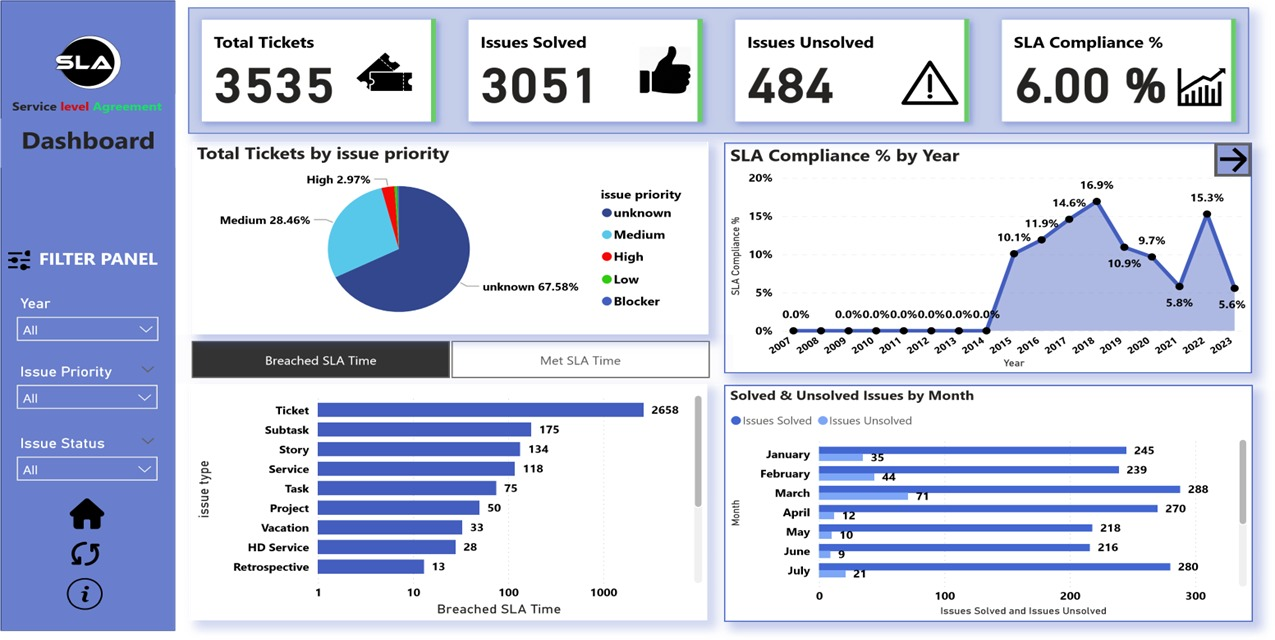

What the dashboard file says about the page in this screenshot:
{"tool":"powerbi","page":{"name":"Dashboard","canvas":[1280,720],"ordinal":0},"visuals":[{"type":"shape","box":[0,0,177.1,720],"z":0},{"type":"slicer","fields":{"Values":["Sheet1.Month.Variation.Date Hierarchy.Year"]},"box":[6.9,330.7,163.3,81],"z":1000},{"type":"slicer","fields":{"Values":["Sheet1.issue priority"]},"box":[6.9,408.9,161.9,82.3],"z":2000},{"type":"slicer","fields":{"Values":["Sheet1.issue status"]},"box":[6.9,491.3,161.9,82.3],"z":3000},{"type":"textbox","box":[34.3,277.2,134.5,37],"z":4000},{"type":"image","box":[2.7,278.6,31.6,37],"z":5000},{"type":"clusteredBarChart","title":" Solved & Unsolved Issues by Month","fields":{"Category":["Sheet1.Month.Variation.Date Hierarchy.Year","Sheet1.Month.Variation.Date Hierarchy.Quarter","Sheet1.Month.Variation.Date Hierarchy.Month","Sheet1.Month.Variation.Date Hierarchy.Day"],"Y":["Sheet1.Issues Solved","Sheet1.Issues Unsolved"]},"box":[732.8,437.7,535.2,270.3],"z":6000},{"type":"lineChart","fields":{"Category":["Sheet1.Month.Variation.Date Hierarchy.Year"],"Y":["Sheet1.SLA Compilance %","select"]},"box":[732.8,161.9,533.8,263.5],"z":7000},{"type":"barChart","fields":{"Y":["Sheet1.Breached SLA Time"],"Category":["Sheet1.issue type"]},"box":[192.1,437.7,522.8,270.3],"z":8000},{"type":"slicer","fields":{"Values":["Time Analysis.Time Analysis"]},"box":[167.4,381.5,573.6,56.3],"z":9000},{"type":"textbox","box":[6.9,107,170.2,34.3],"z":10000},{"type":"pieChart","fields":{"Category":["Sheet1.issue priority"],"Y":["Sheet1.Total Tickets"]},"box":[192.9,161.4,522.9,220],"z":11000},{"type":"image","box":[0,0,177,141.3],"z":12000},{"type":"textbox","box":[0,134.5,177,56.3],"z":13000},{"type":"image","box":[64.5,564,45.3,45.3],"z":14000},{"type":"image","box":[61.7,609.3,46.7,45.3],"z":15000},{"type":"image","box":[61.5,655.1,48.3,45.8],"z":16000},{"type":"actionButton","box":[1228.6,162.9,37.1,38.6],"z":17000},{"type":"cardVisual","fields":{"Data":["Sheet1.Total Tickets","Sheet1.Issues Solved","Sheet1.Issues Unsolved","Sheet1.SLA Compliance %"]},"box":[190,7.1,1074,144],"z":18000}]}

Visuals, with their boxes on the page's 1280x720 design canvas (x1, y1, x2, y2). These are canvas units, not pixel positions in the 1275x640 screenshot, which may show the page scaled, cropped or inside an application window:
shape: pyautogui.locateOnScreen(0, 0, 177, 720)
slicer - Sheet1.Month.Variation.Date Hierarchy.Year: pyautogui.locateOnScreen(7, 331, 170, 412)
slicer - Sheet1.issue priority: pyautogui.locateOnScreen(7, 409, 169, 491)
slicer - Sheet1.issue status: pyautogui.locateOnScreen(7, 491, 169, 574)
textbox: pyautogui.locateOnScreen(34, 277, 169, 314)
image: pyautogui.locateOnScreen(3, 279, 34, 316)
" Solved & Unsolved Issues by Month" clusteredBarChart: pyautogui.locateOnScreen(733, 438, 1268, 708)
lineChart - Sheet1.Month.Variation.Date Hierarchy.Year x Sheet1.SLA Compilance %: pyautogui.locateOnScreen(733, 162, 1267, 425)
barChart - Sheet1.Breached SLA Time x Sheet1.issue type: pyautogui.locateOnScreen(192, 438, 715, 708)
slicer - Time Analysis.Time Analysis: pyautogui.locateOnScreen(167, 382, 741, 438)
textbox: pyautogui.locateOnScreen(7, 107, 177, 141)
pieChart - Sheet1.issue priority x Sheet1.Total Tickets: pyautogui.locateOnScreen(193, 161, 716, 381)
image: pyautogui.locateOnScreen(0, 0, 177, 141)
textbox: pyautogui.locateOnScreen(0, 134, 177, 191)
image: pyautogui.locateOnScreen(64, 564, 110, 609)
image: pyautogui.locateOnScreen(62, 609, 108, 655)
image: pyautogui.locateOnScreen(62, 655, 110, 701)
actionButton: pyautogui.locateOnScreen(1229, 163, 1266, 202)
cardVisual - Sheet1.Total Tickets x Sheet1.Issues Solved: pyautogui.locateOnScreen(190, 7, 1264, 151)
